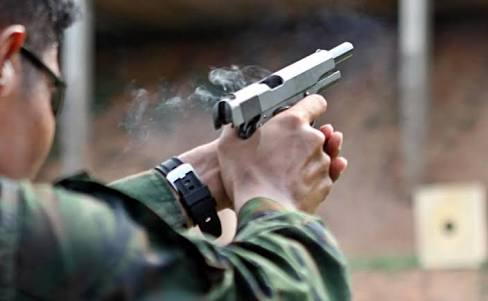gun: (208, 40, 357, 140)
